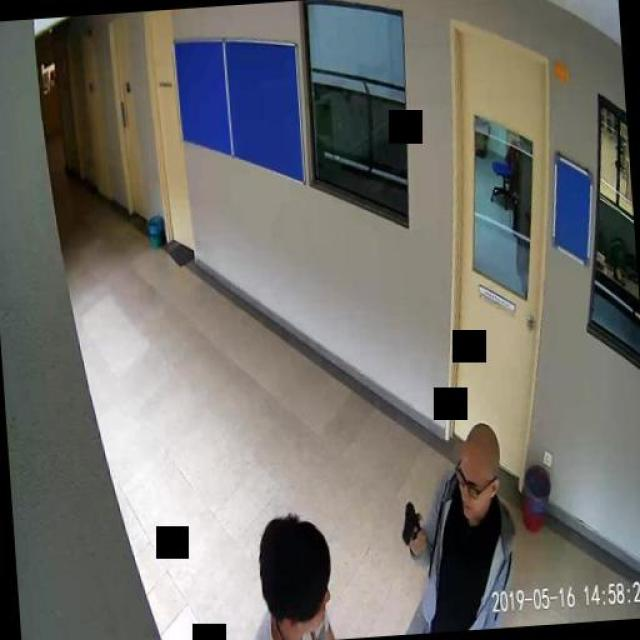gun: (398, 499, 422, 549)
